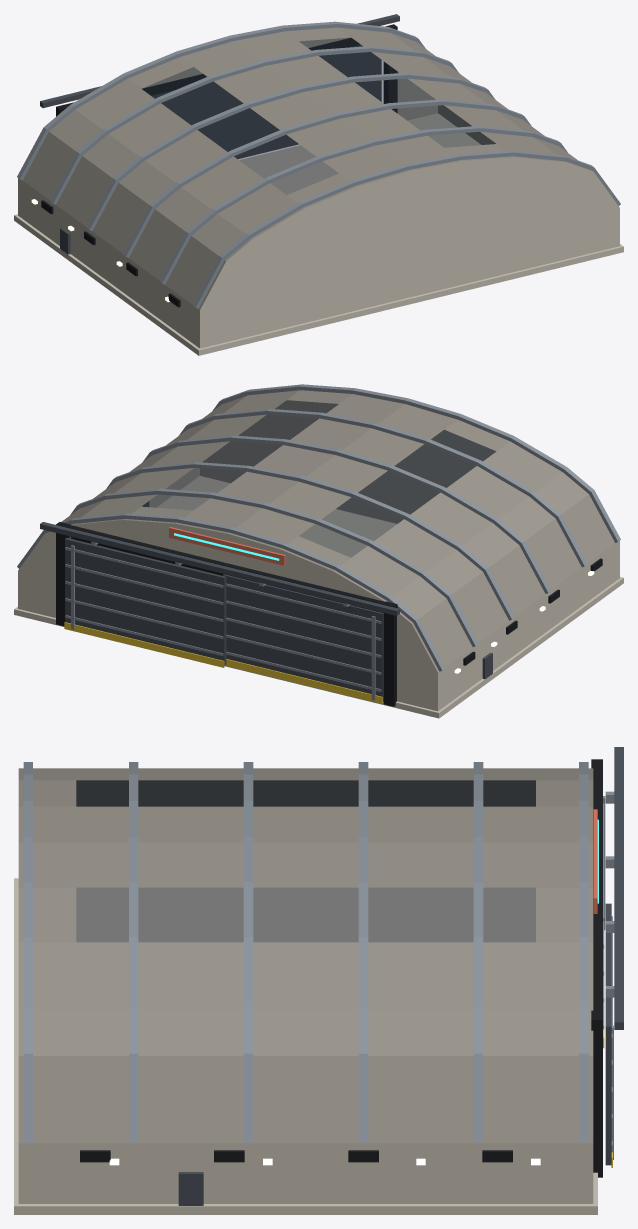
File: hangar_a.glb
3 views of the same model, one above another, from view 1: azimuth 30°, elevation 25°; view 2: azimuth 150°, elevation 25°; view 3: azimuth 270°, elevation 25° (orthographic). The views are drawn at different scales.
Visible parts, largest first — view 1: Body; view 2: Body; view 3: Body.
Part boxes in pixels (<box>): Body: <box>14,14,623,355</box>; Body: <box>14,384,623,718</box>; Body: <box>14,747,623,1214</box>.
Size of the model in its own units: 40.6 by 12.32 by 31.85.
